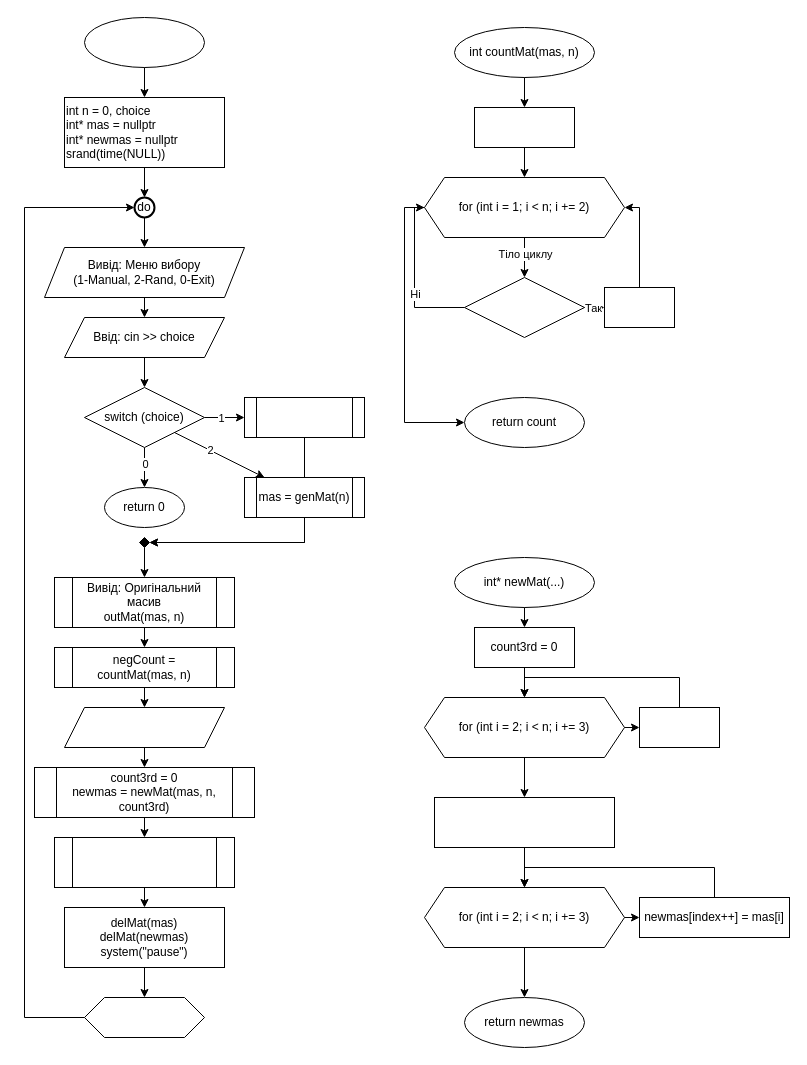
The diagram is 807 pixels wide and 1065 high, and some of its shapes have lost their labels. The centre of each missing label's shape, as x and y in pixels:
"count = 0" belongs at point 524,127.
"count++" belongs at point 639,307.
"count3rd++" belongs at point 679,727.
"if (mas[i] < 0)" belongs at point 524,307.
"Main: Початок" belongs at point 144,42.
"mas = inpMat(n)" belongs at point 304,417.
"newmas = new int[count3rd] index = 0" belongs at point 524,822.
"while (true)" belongs at point 144,1017.
"Вивід: negCount" belongs at point 144,727.
"Вивід: Новий масив outMat(newmas, count3rd)" belongs at point 144,862.
